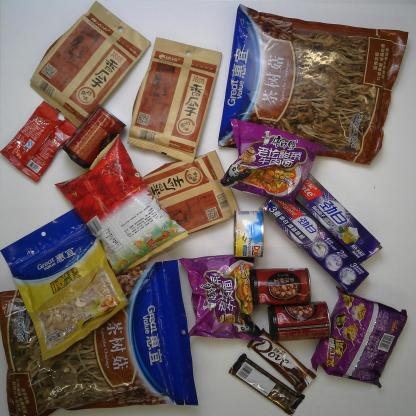Canned Food: (58, 102, 128, 175), (260, 299, 334, 345), (248, 262, 314, 309), (230, 206, 266, 262)
Chocolate: (224, 352, 310, 416), (244, 325, 320, 396)
Dried Food: (215, 1, 411, 169), (0, 258, 203, 413), (26, 0, 153, 131), (126, 33, 226, 165), (132, 148, 240, 236)
Dried Fruit: (1, 208, 134, 364)
Instant Drink: (0, 98, 79, 186)
Instant Noodles: (311, 284, 410, 390), (217, 115, 326, 206), (176, 250, 264, 346)
Personal Hygiene: (259, 184, 378, 298), (294, 168, 385, 266)
Puffed Food: (51, 133, 192, 275)
